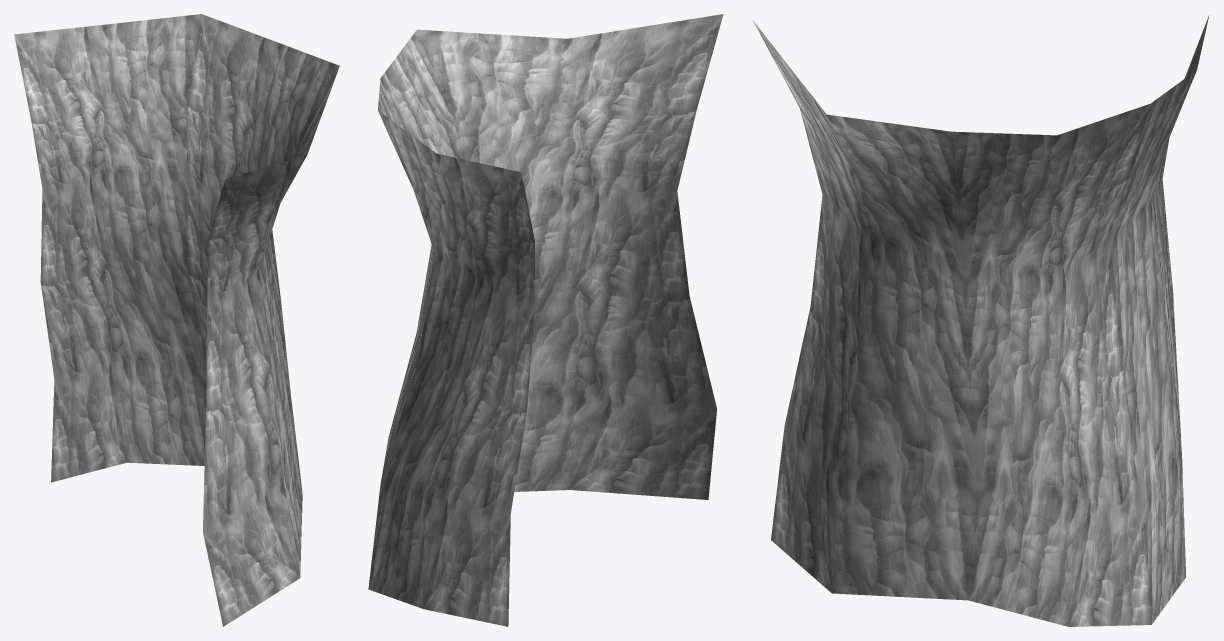
The model's file is SWORDLIGHT20_PS-AREA03_59.fbx.
3 views of the same model, side by side, from view 1: azimuth 30°, elevation 25°; view 2: azimuth 150°, elevation 25°; view 3: azimuth 270°, elevation 25° (orthographic). The views are drawn at different scales.
Visible parts, largest first — view 1: SWORDLIGHT20_PS-AREA03_59; view 2: SWORDLIGHT20_PS-AREA03_59; view 3: SWORDLIGHT20_PS-AREA03_59.
Part boxes in pixels (<box>): SWORDLIGHT20_PS-AREA03_59: <box>14,14,339,626</box>; SWORDLIGHT20_PS-AREA03_59: <box>368,14,723,626</box>; SWORDLIGHT20_PS-AREA03_59: <box>753,15,1209,626</box>.
Size of the model in its own units: 102349 by 209764 by 168056.
1 material, 1 textured.
